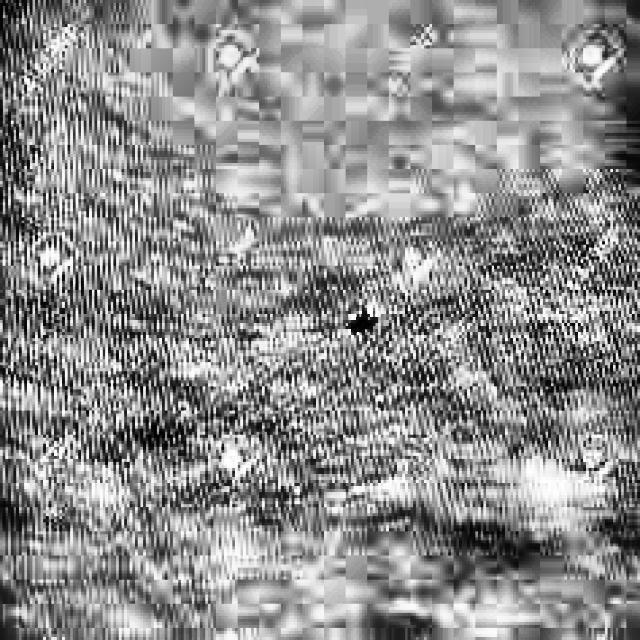cut: (333, 300, 401, 350)
